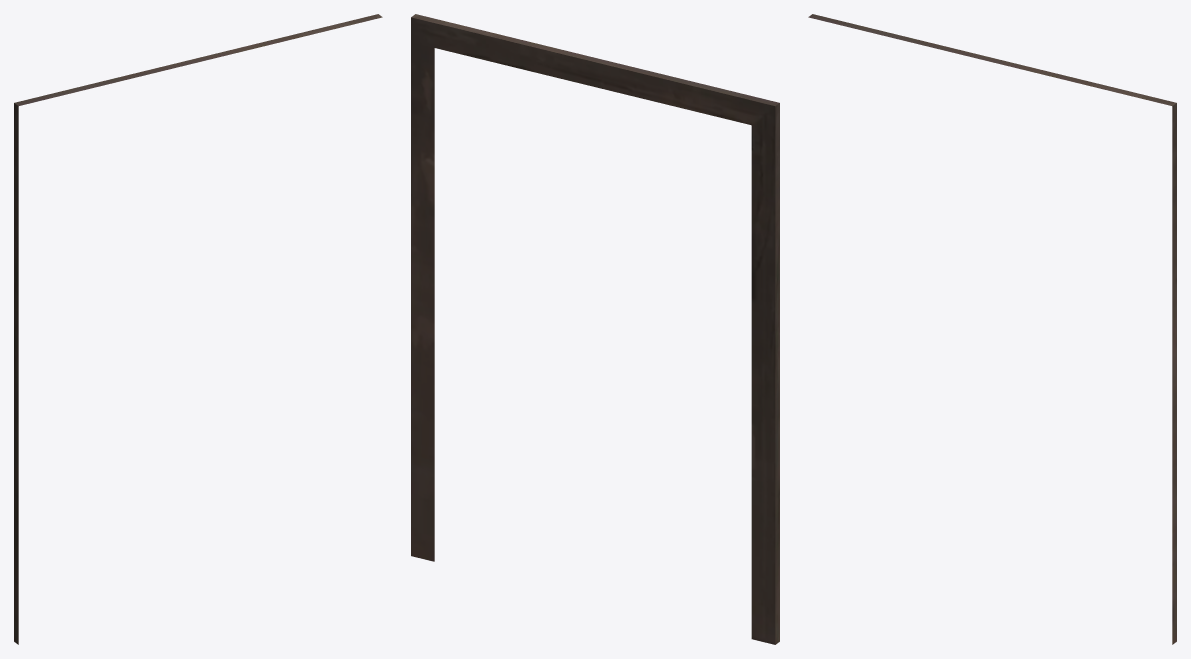
3 views of the same model, side by side, from view 1: azimuth 30°, elevation 25°; view 2: azimuth 150°, elevation 25°; view 3: azimuth 330°, elevation 25° (orthographic).
Visible parts, largest first — view 1: body0_model0_lod0_mesh0; view 2: body0_model0_lod0_mesh0; view 3: body0_model0_lod0_mesh0.
Part boxes in pixels (left/top/right/bottom): body0_model0_lod0_mesh0: left=14, top=14, right=382, bottom=644; body0_model0_lod0_mesh0: left=411, top=14, right=779, bottom=644; body0_model0_lod0_mesh0: left=808, top=14, right=1176, bottom=644.
Bounding box in the file's own units: 92 × 130 × 2.
1 material, 1 textured.
